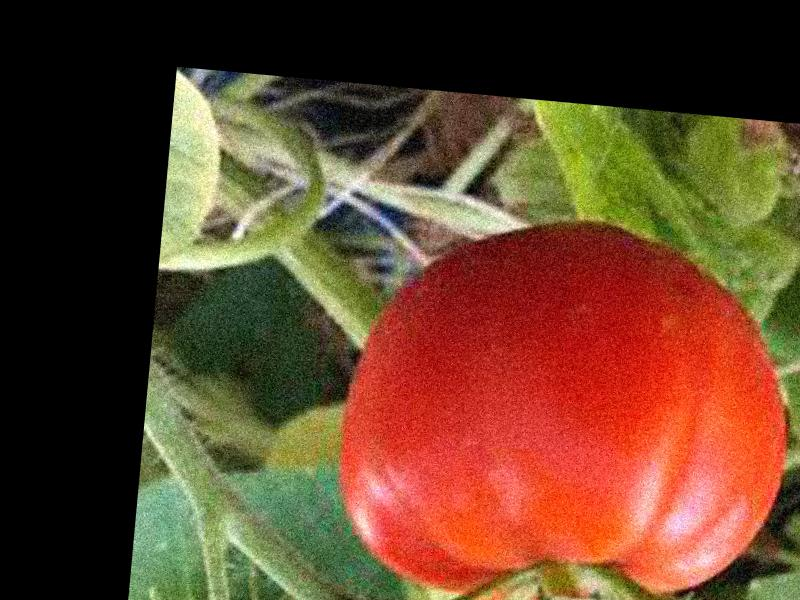Tomato: (325, 205, 800, 600)
